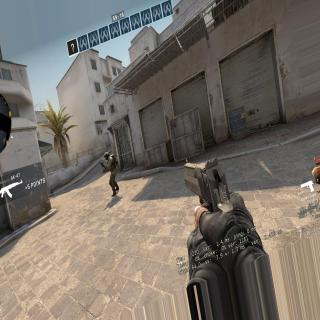CT-Body: (102, 150, 119, 189)
CT-Head: (104, 152, 111, 160)
